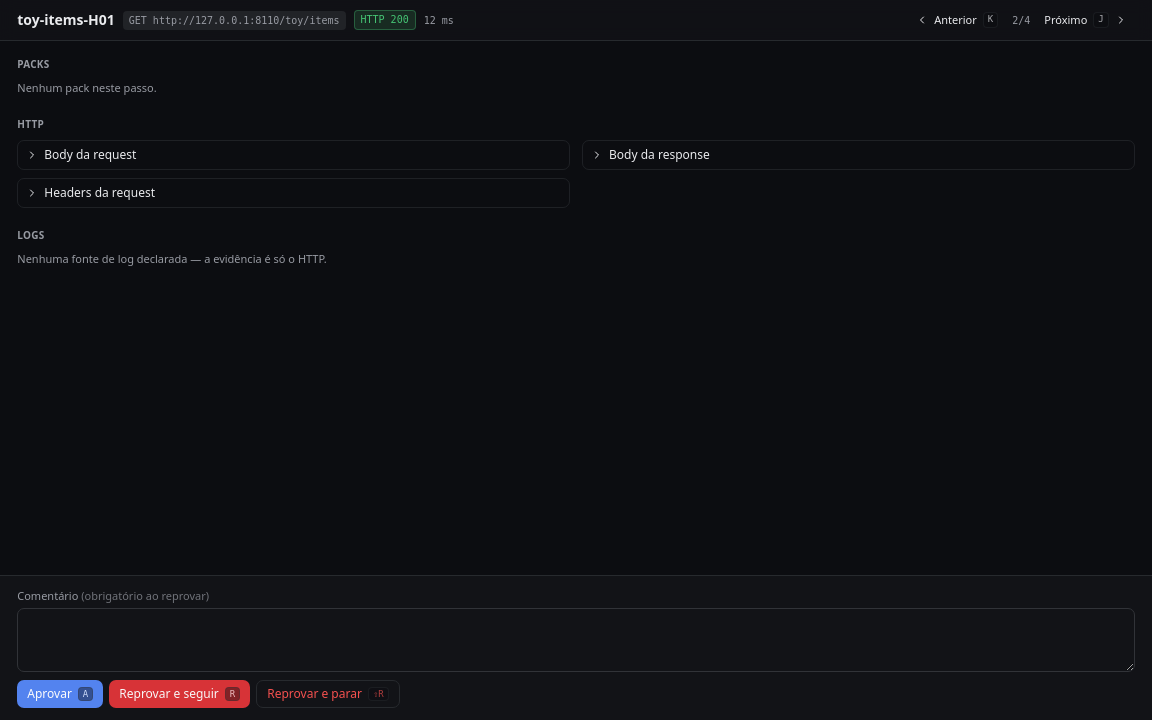
Test: StepPane — the verdict › refuses a reprove with no comment, before it reaches the server
Click the button "Reprovar e seguir R": coordinates (180, 694) [109, 680, 250, 708]
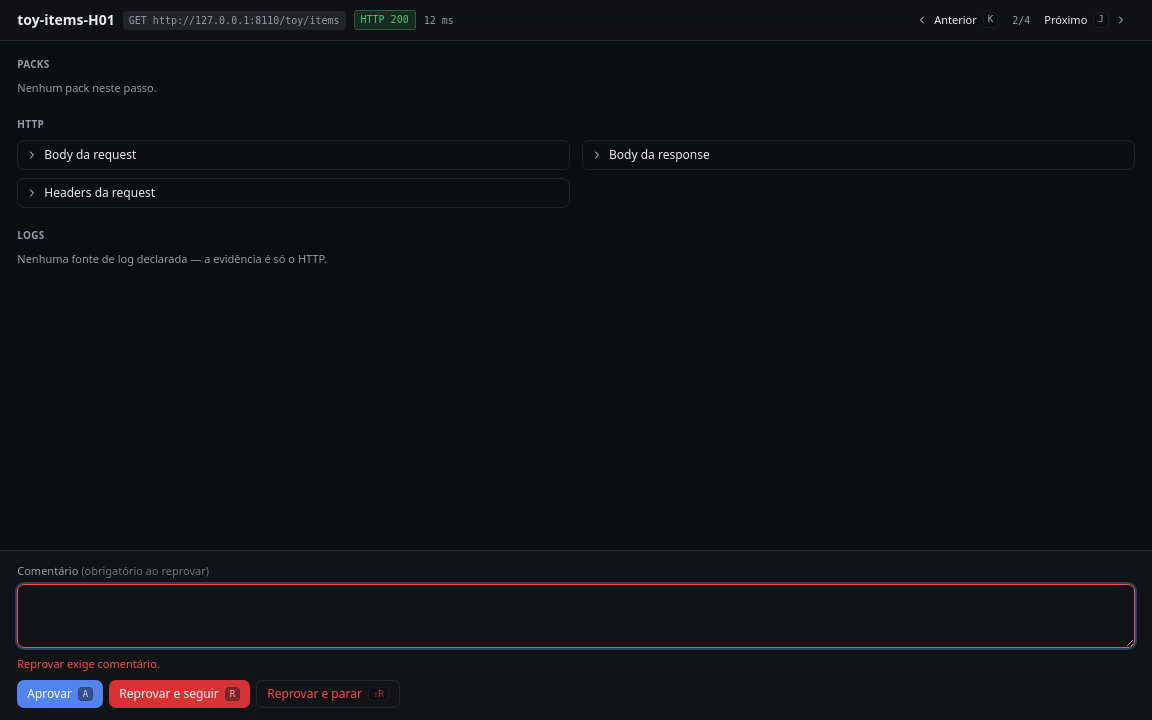
Result: the text "Reprovar exige comentário." is shown at [17, 656, 160, 670]
